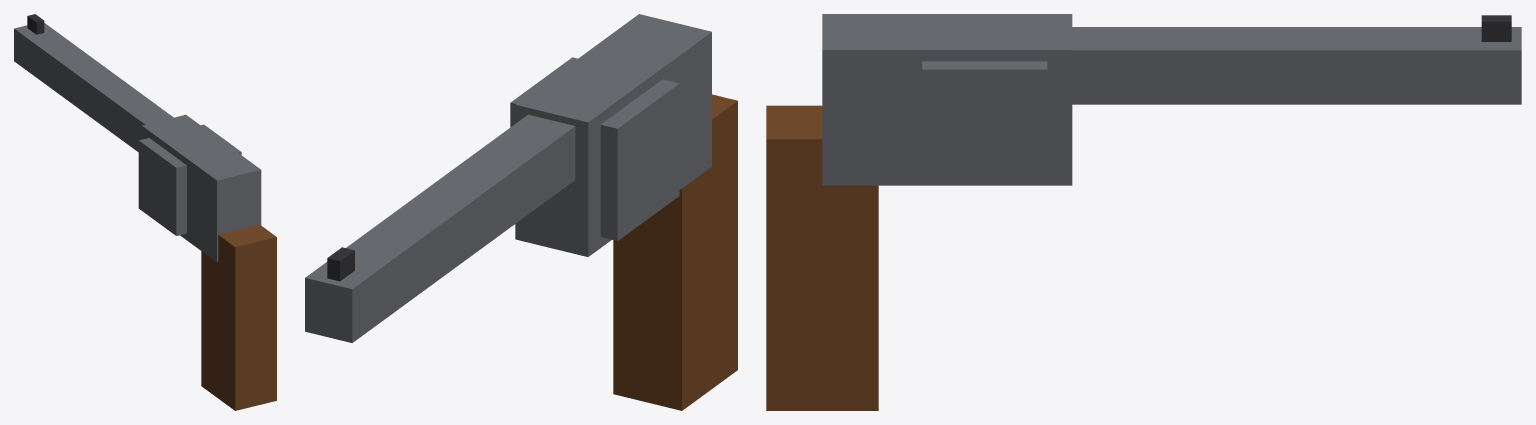
File: gun_revolver.obj
3 views of the same model, side by side, from view 1: azimuth 30°, elevation 25°; view 2: azimuth 150°, elevation 25°; view 3: azimuth 270°, elevation 25° (orthographic). The views are drawn at different scales.
Bounding box in the file's own units: 0.05 × 0.166 × 0.3025.
